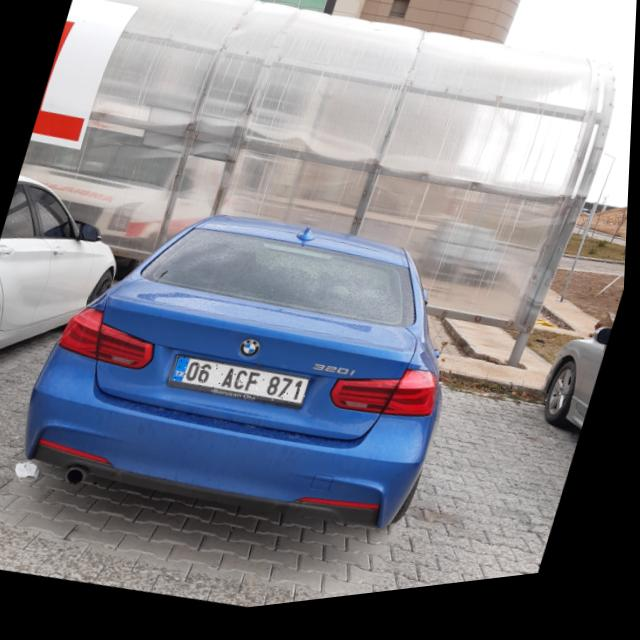license_plate: (169, 347, 316, 426)
